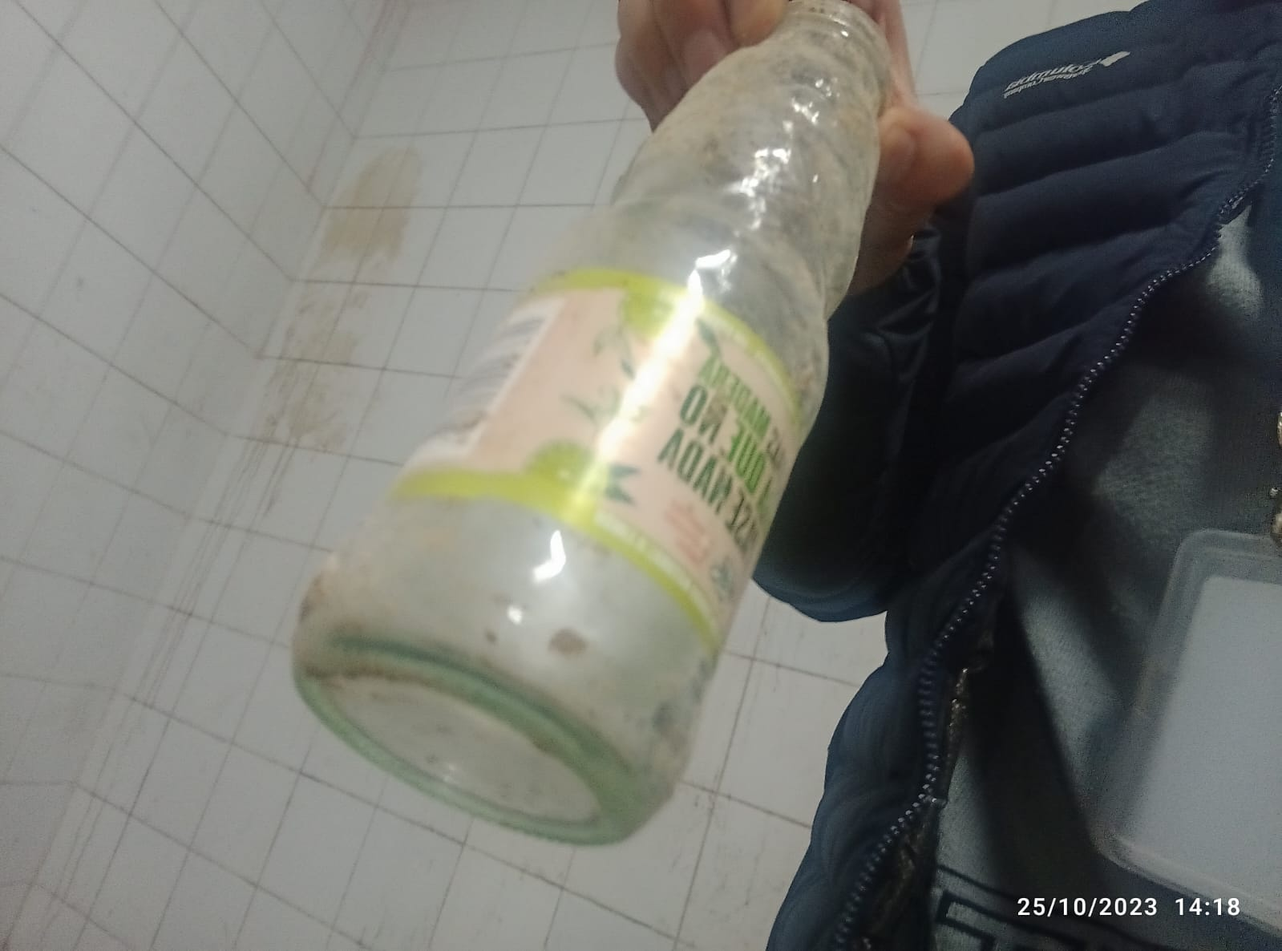Vidrio: (288, 0, 894, 846)
